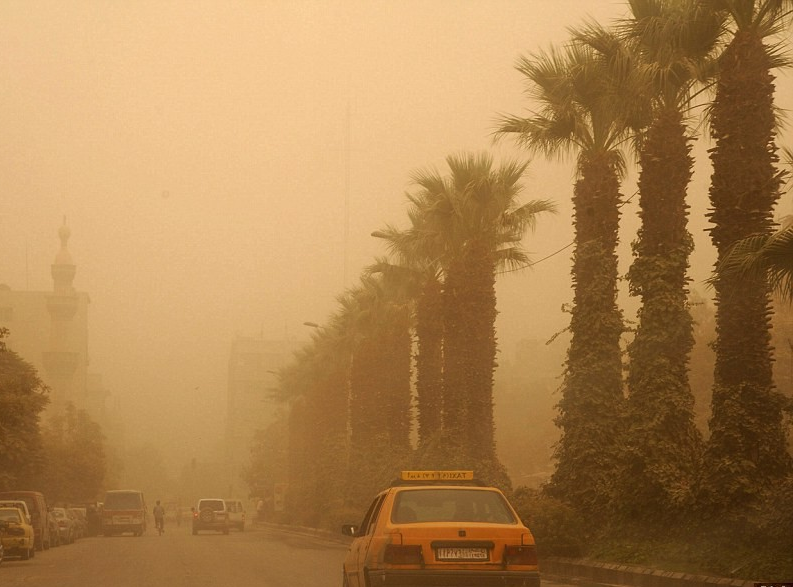bicycle: (155, 514, 163, 538)
car: (343, 473, 543, 586), (93, 488, 146, 537), (0, 504, 34, 559), (20, 484, 48, 548), (191, 497, 228, 534), (49, 506, 79, 544), (224, 497, 244, 531)
person: (152, 497, 165, 532)
